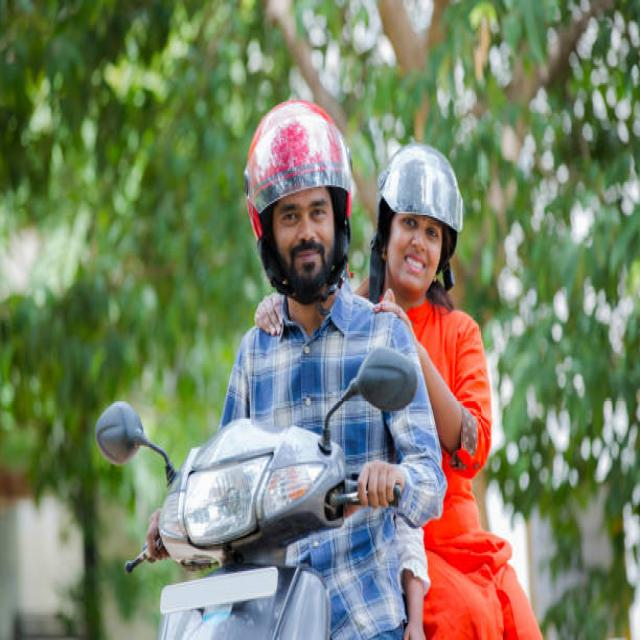not_triplets: (174, 68, 537, 640)
with-helmet: (240, 91, 360, 306), (380, 136, 462, 303)
